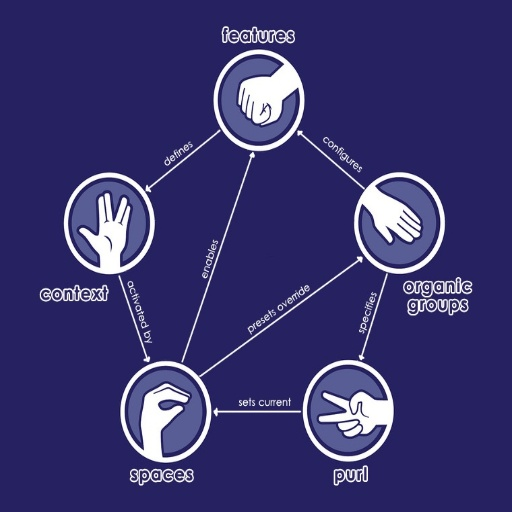hand: (68, 176, 144, 281), (315, 390, 377, 439), (138, 380, 193, 432), (372, 192, 423, 246), (235, 75, 282, 126)
